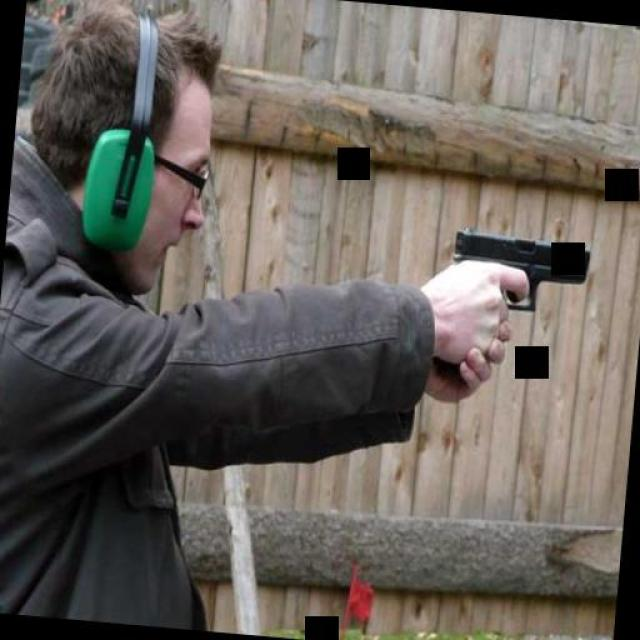gun: (419, 222, 591, 406)
